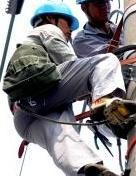boots: (76, 161, 121, 176), (1, 1, 1, 1)
gloves: (76, 161, 120, 176), (1, 1, 1, 1)
hard-hat: (29, 0, 78, 31)
ppe-suit: (0, 22, 131, 176)
